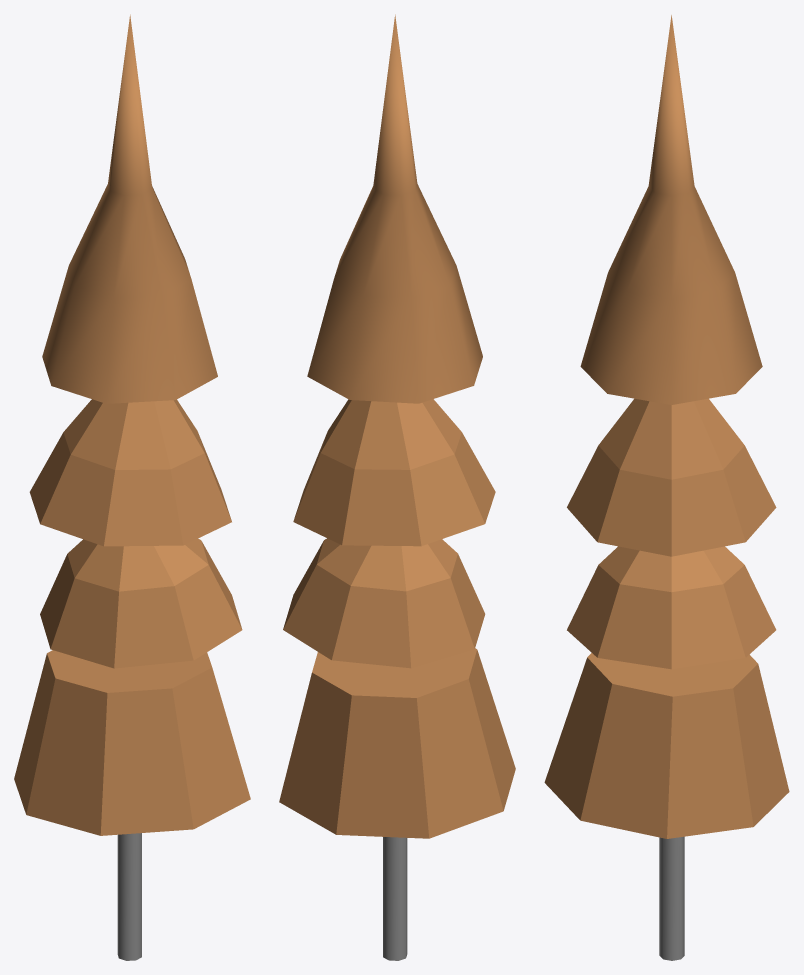
Rendered from TREE.FBX.
The picture shows the model from 3 angles, left to right: view 1: azimuth 30°, elevation 25°; view 2: azimuth 150°, elevation 25°; view 3: azimuth 270°, elevation 25°; orthographic projection.
Visible parts, largest first — view 1: Firtree_2_2; view 2: Firtree_2_2; view 3: Firtree_2_2.
Boxes of the visible parts, x1,y1,x2,y2 form: Firtree_2_2: [14, 14, 250, 960]; Firtree_2_2: [279, 14, 515, 960]; Firtree_2_2: [544, 15, 789, 960].
Size of the model in its own units: 753 by 753 by 3192.
